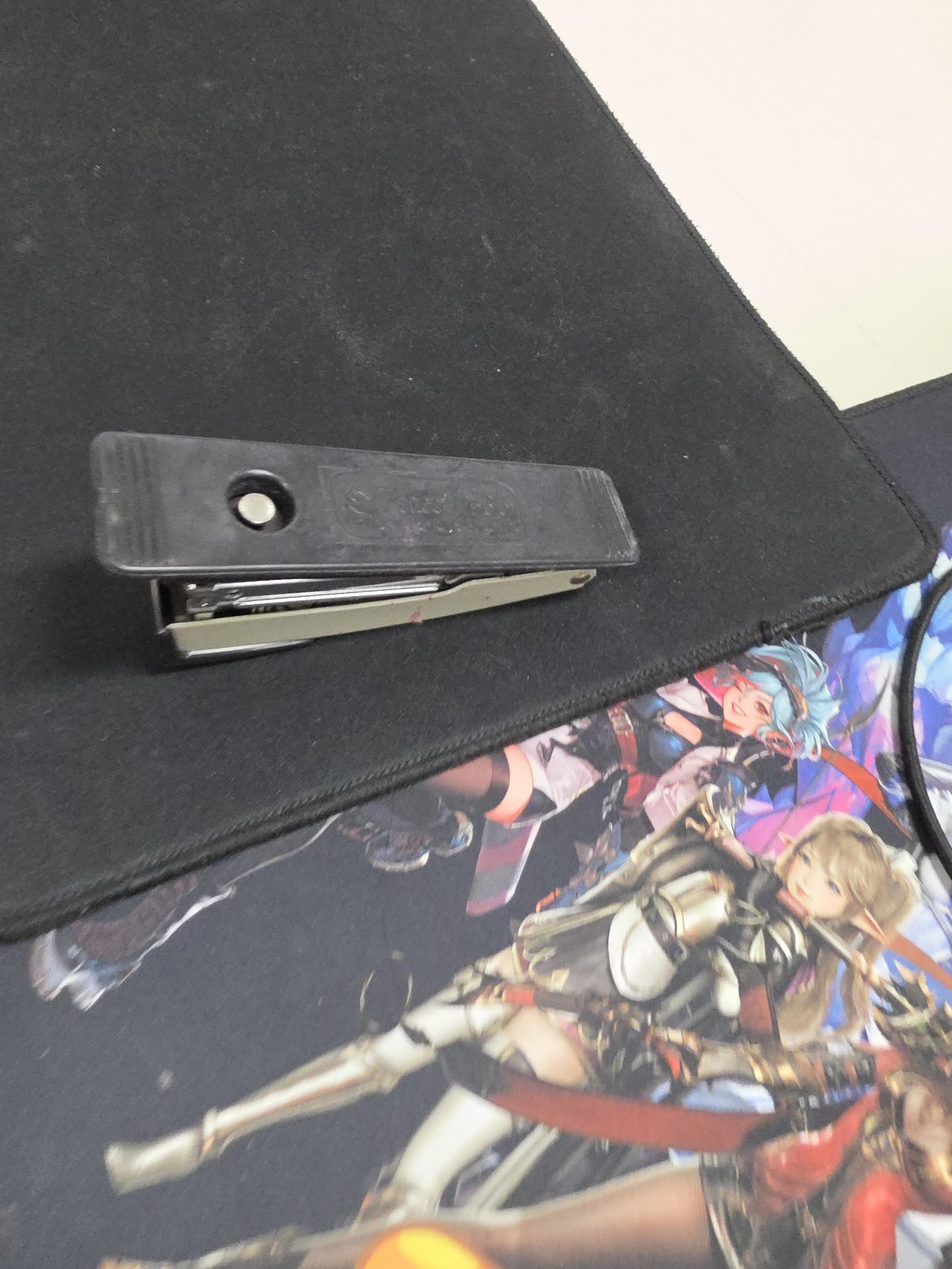stapler: (89, 431, 640, 664)
